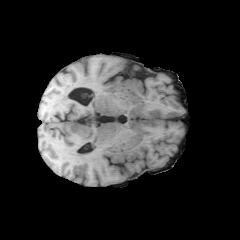glioma: (68, 123, 97, 160)
